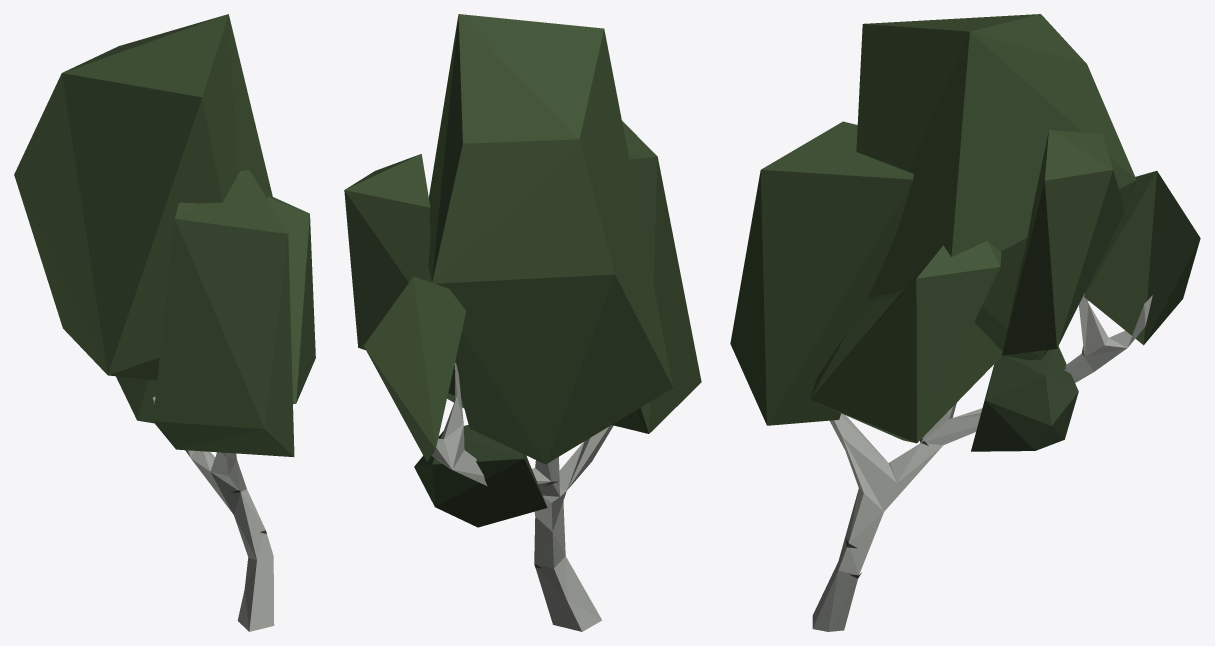
The model's file is BirchTree_1_lod.glb.
The picture shows the model from 3 angles, left to right: view 1: azimuth 30°, elevation 25°; view 2: azimuth 150°, elevation 25°; view 3: azimuth 270°, elevation 25°; orthographic projection. The views are drawn at different scales.
Visible parts, largest first — view 1: BirchTree_1; view 2: BirchTree_1; view 3: BirchTree_1.
Part boxes in pixels (x1,y1,x2,y2): BirchTree_1: (14,14,315,631); BirchTree_1: (344,14,701,631); BirchTree_1: (730,14,1200,631).
Size of the model in its own units: 1.56 by 3.49 by 2.43.
